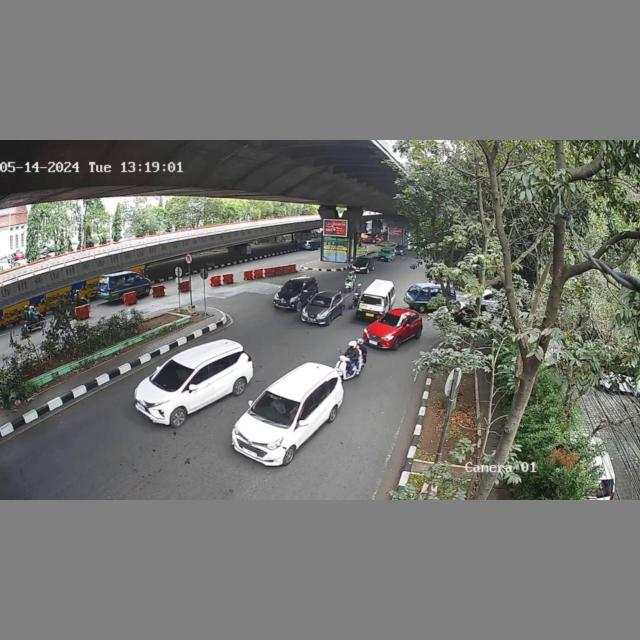windshield: (253, 390, 300, 427), (148, 359, 192, 392), (281, 277, 307, 293), (309, 294, 333, 310)
